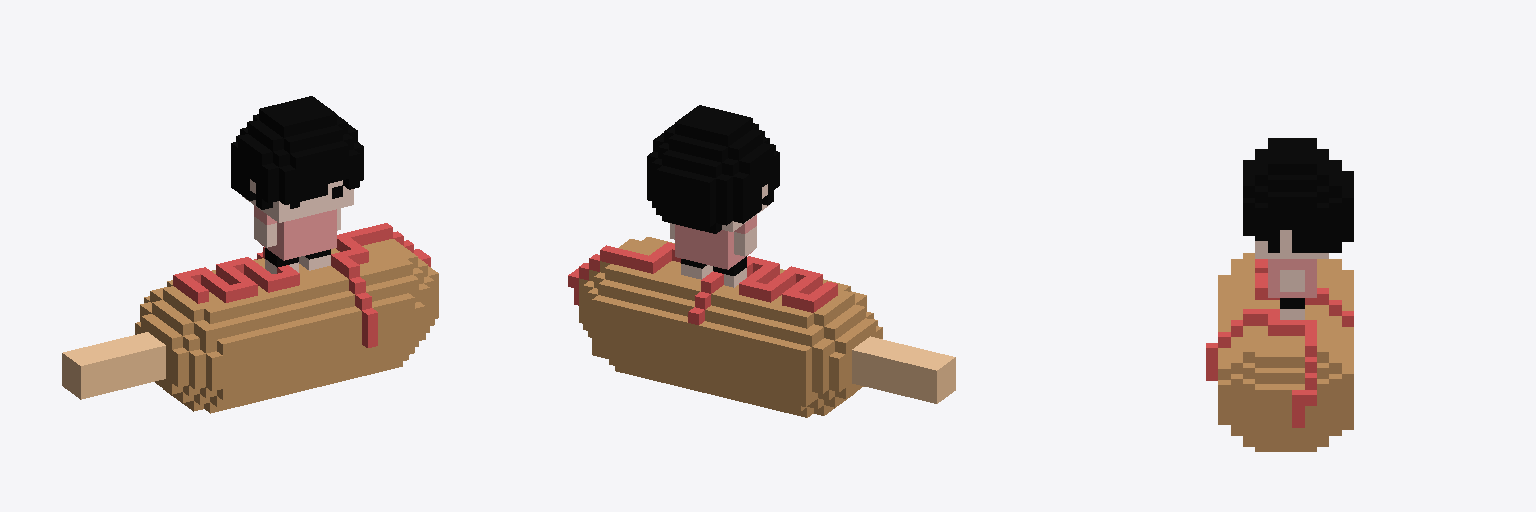
3 views of the same model, side by side, from view 1: azimuth 30°, elevation 25°; view 2: azimuth 150°, elevation 25°; view 3: azimuth 270°, elevation 25° (orthographic).
Bounding box in the file's own units: 34 × 23 × 12.
Materials: 1 (1 with a texture image).